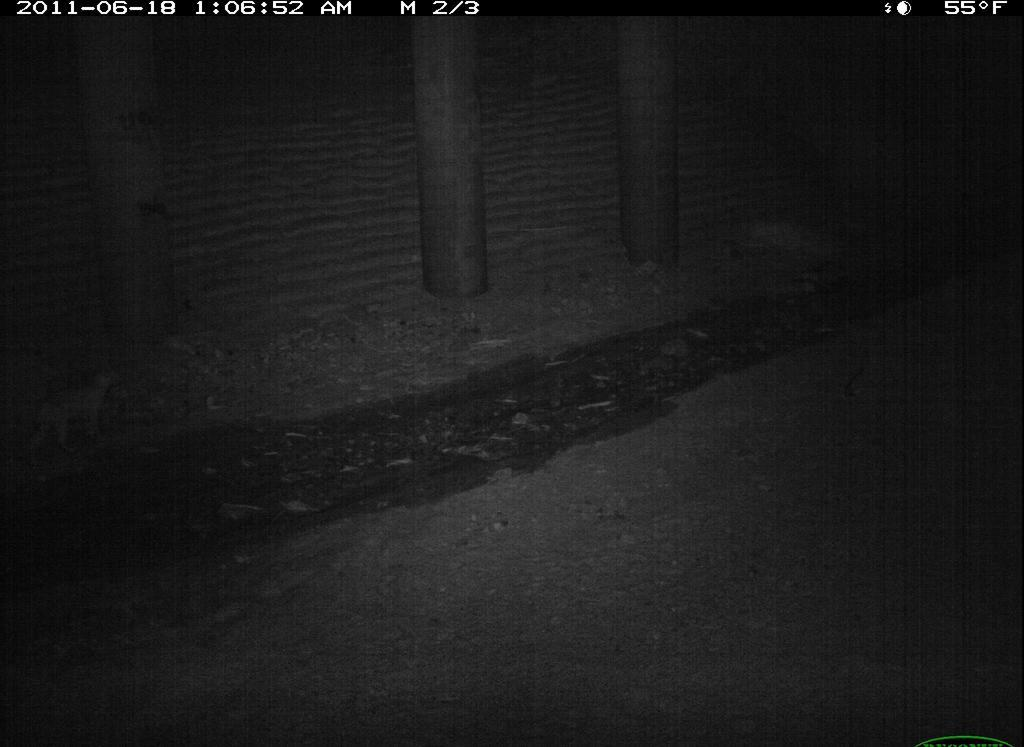bobcat: (34, 719, 249, 747)
